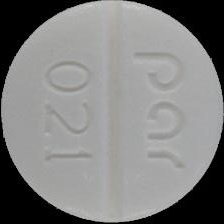68084-082: (0, 0, 224, 224)
